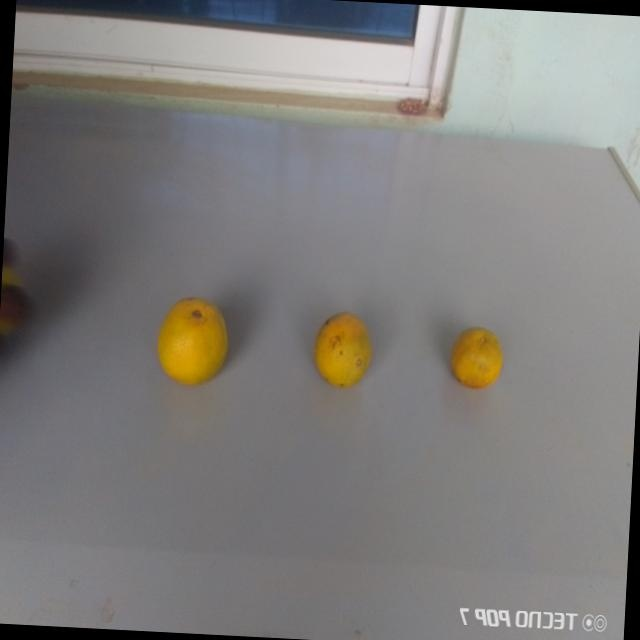agrume: (149, 284, 244, 399), (305, 307, 383, 406), (438, 320, 514, 407)
